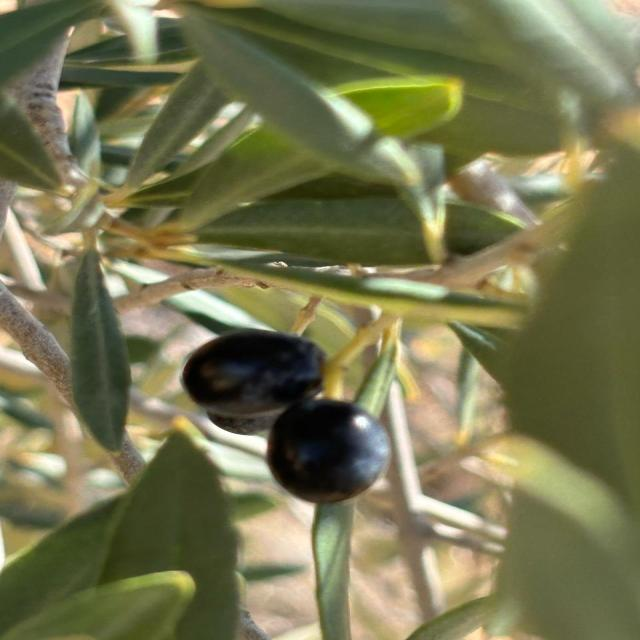Healthy: (267, 398, 389, 504), (180, 329, 324, 417), (69, 248, 131, 452)
